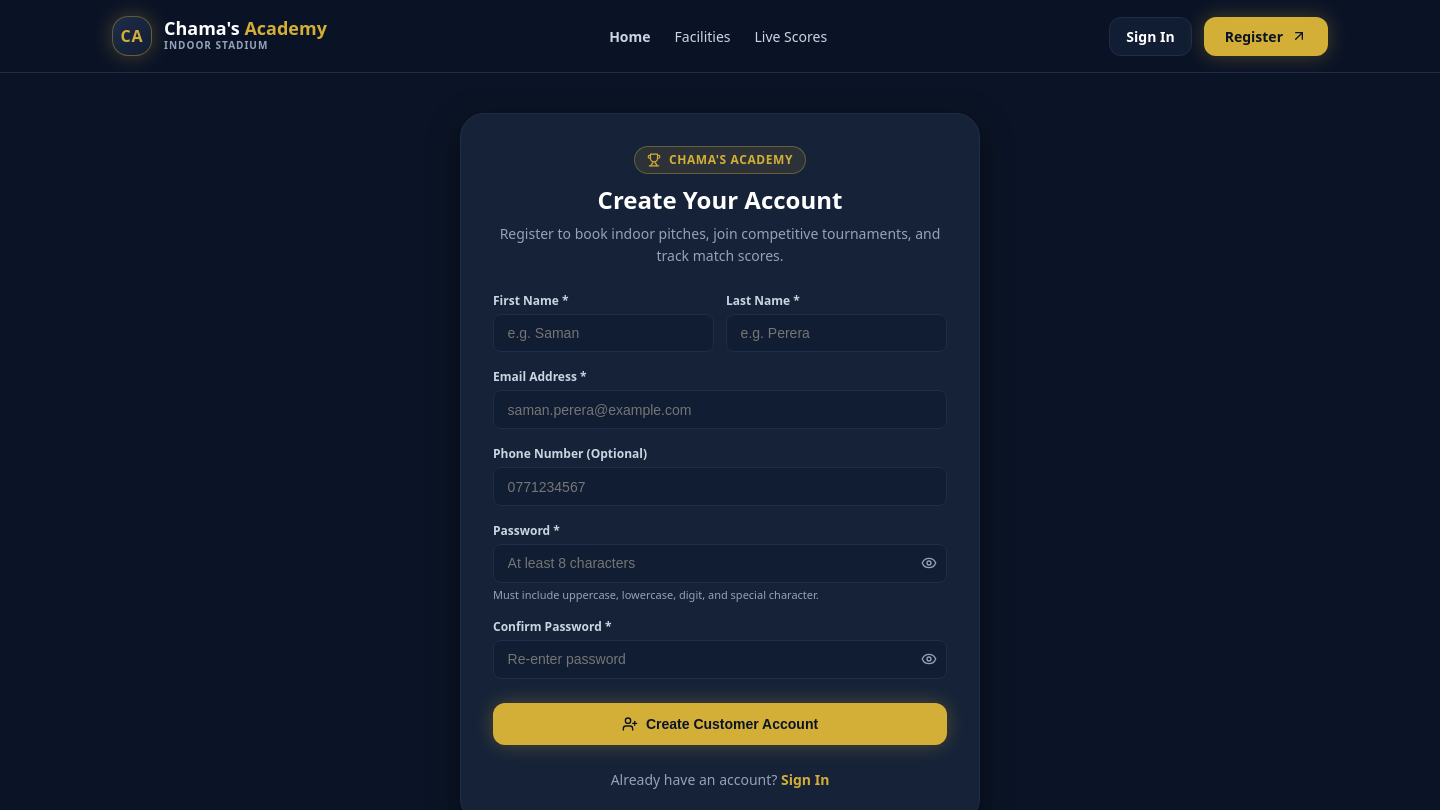
Test: Registration Page Component and Flow › validates password complexity and confirm-password mismatch
Type "Saman" into the field labelled "First Name *" at (604, 333), box [493,314,714,352]
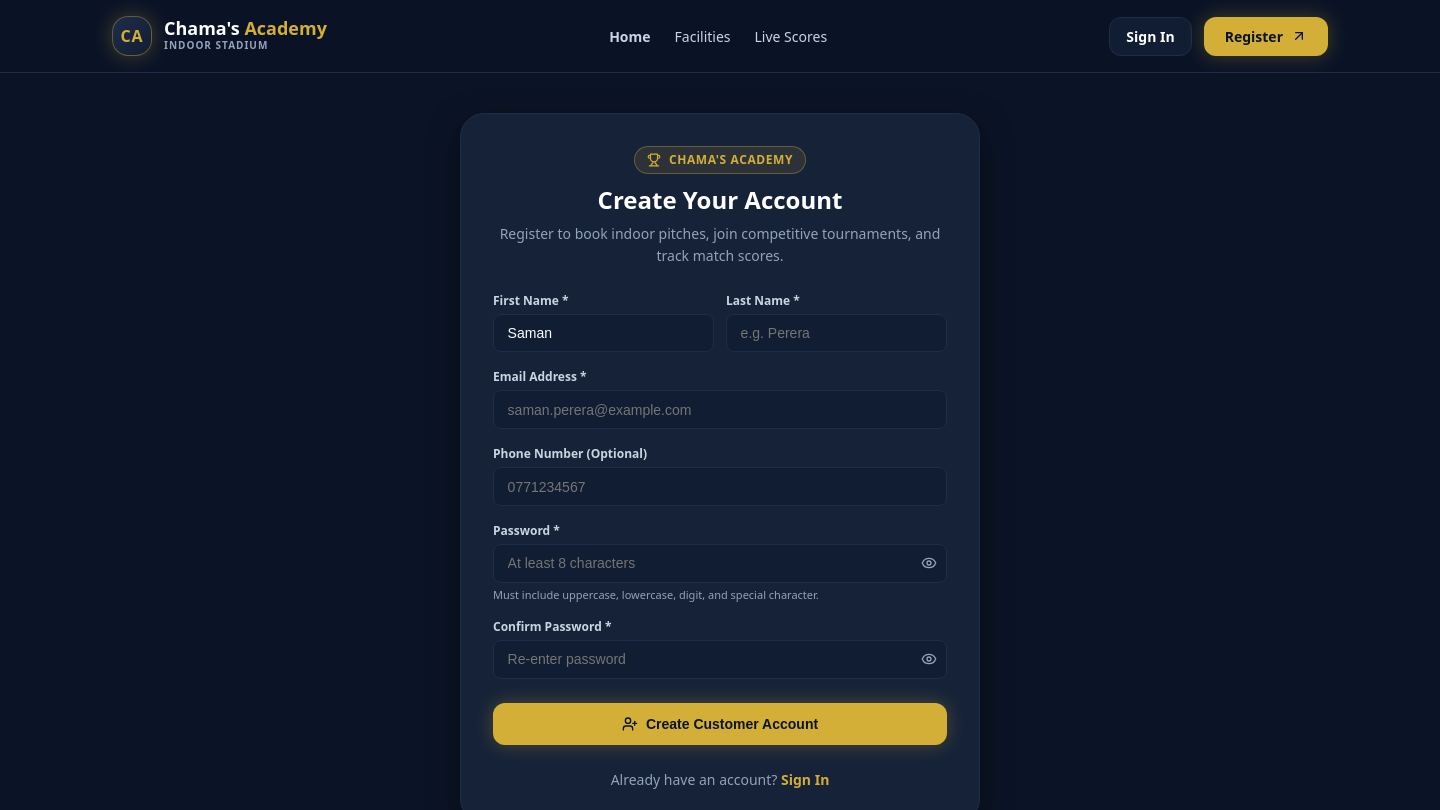
Type "Perera" into the field labelled "Last Name *" at (836, 333), box [726,314,947,352]
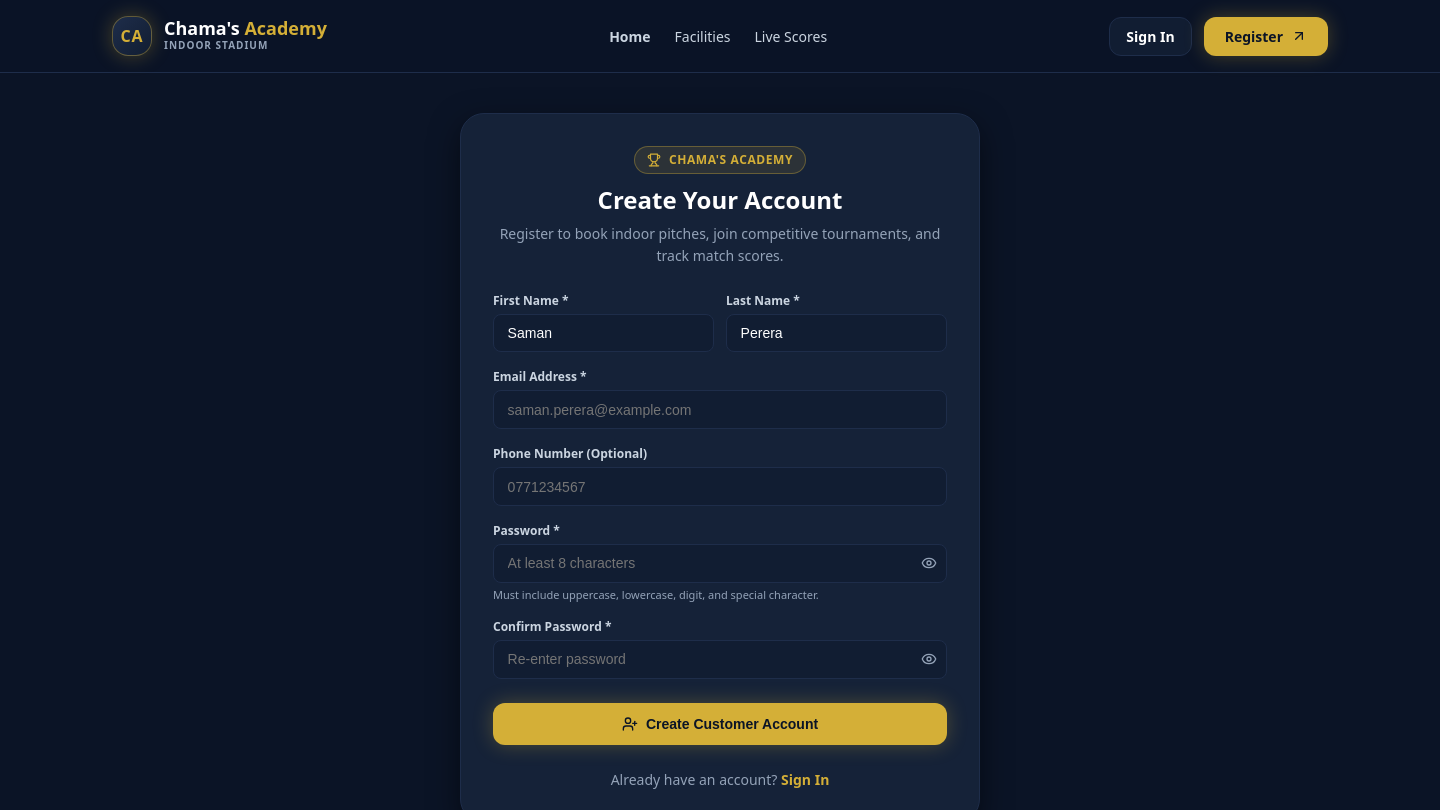
Type "saman@example.com" into the field labelled "Email Address *" at (720, 410), box [493,390,947,429]
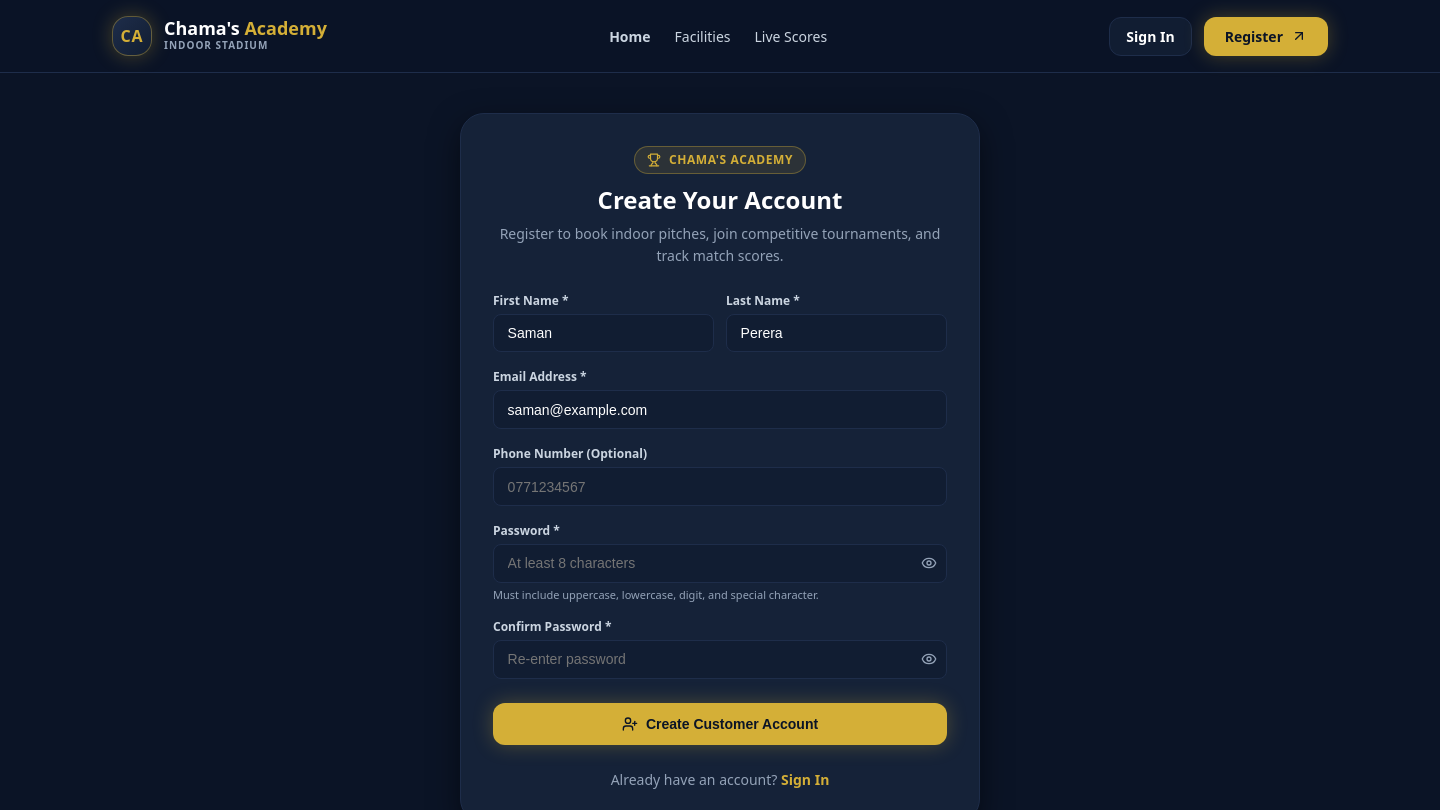
Type "weakpass" into the password field labelled "Password *" at (720, 563), box [493,544,947,583]
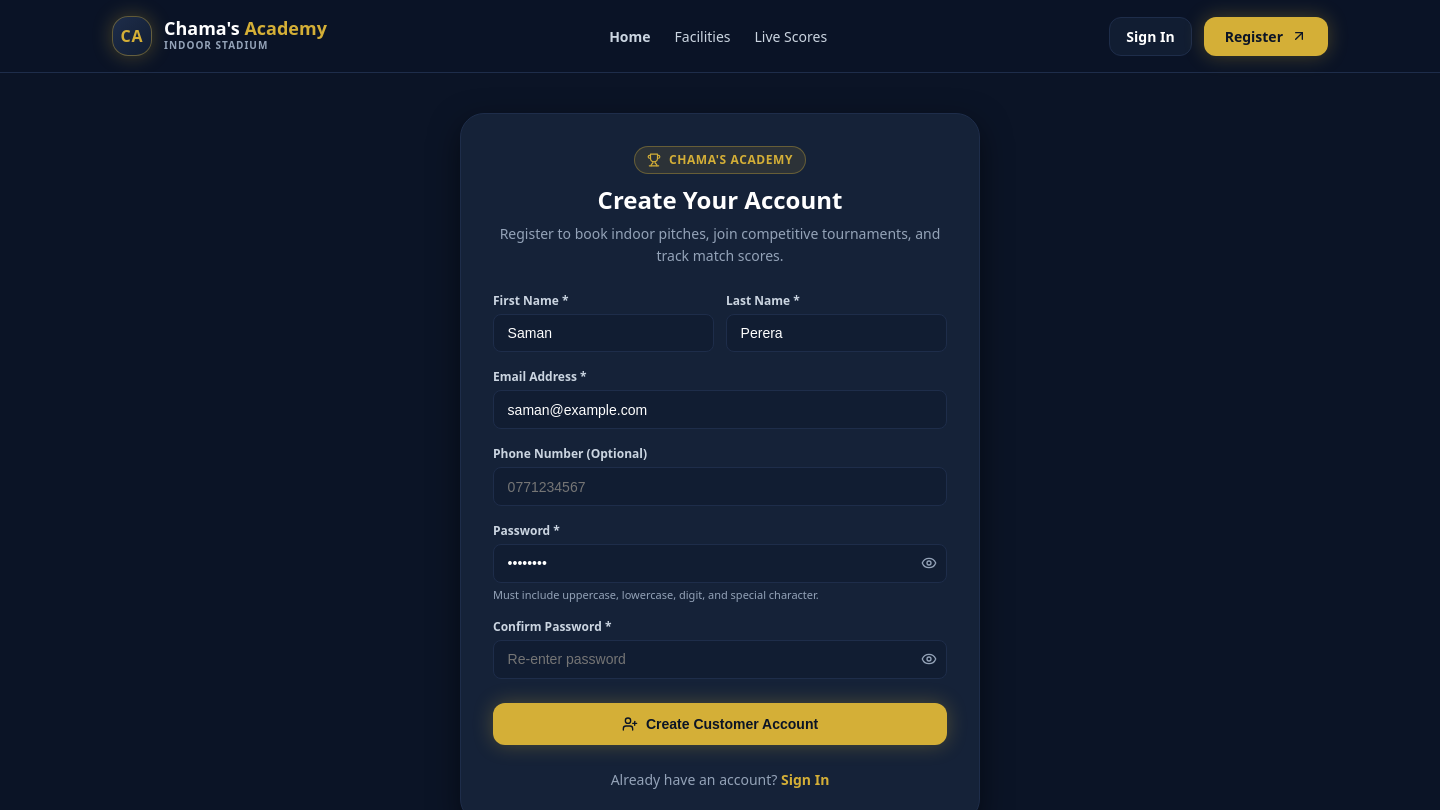
Type "differentpass" into the password field labelled "Confirm Password *" at (720, 660), box [493,640,947,679]
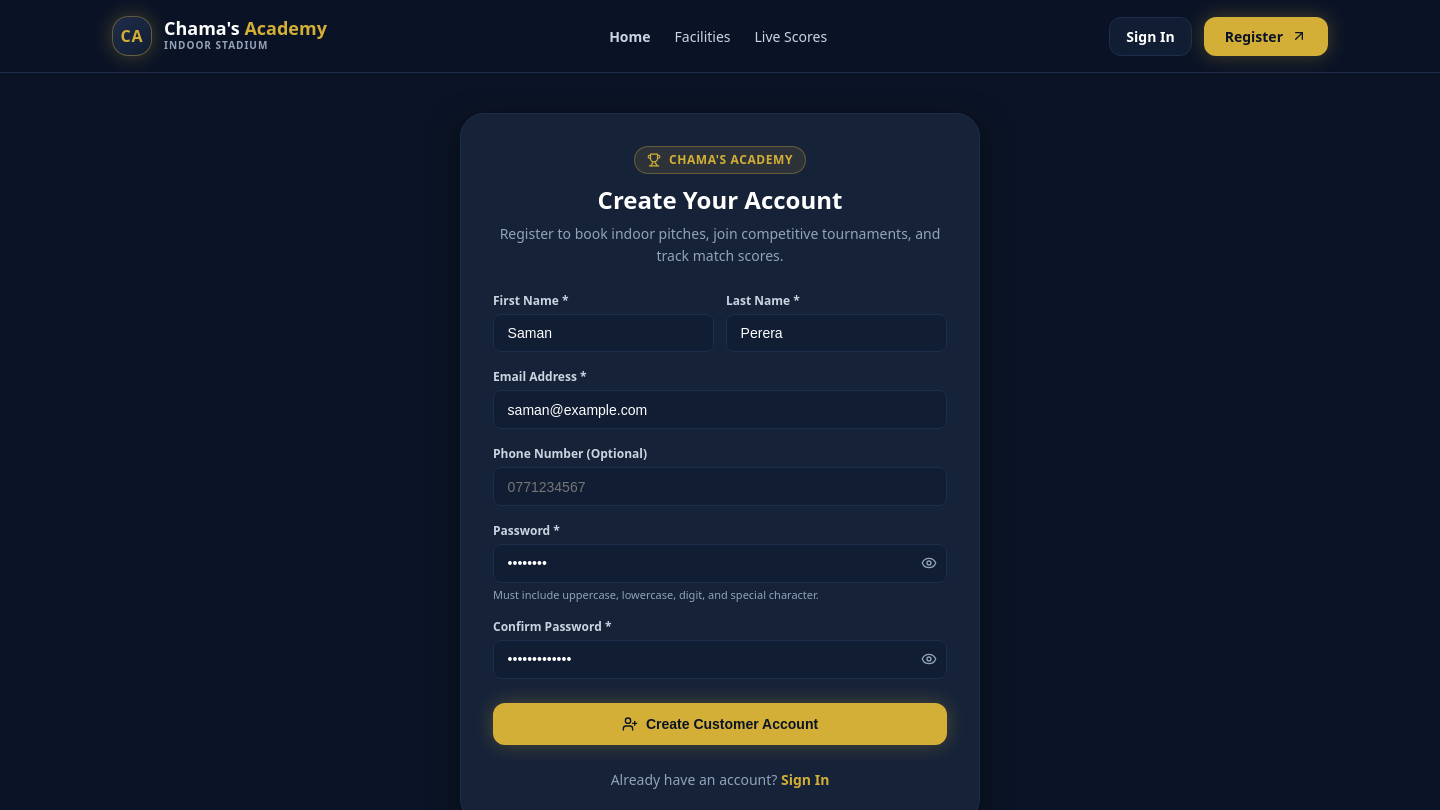
Click the button "Create Customer Account" at (720, 724), box [493,703,947,745]
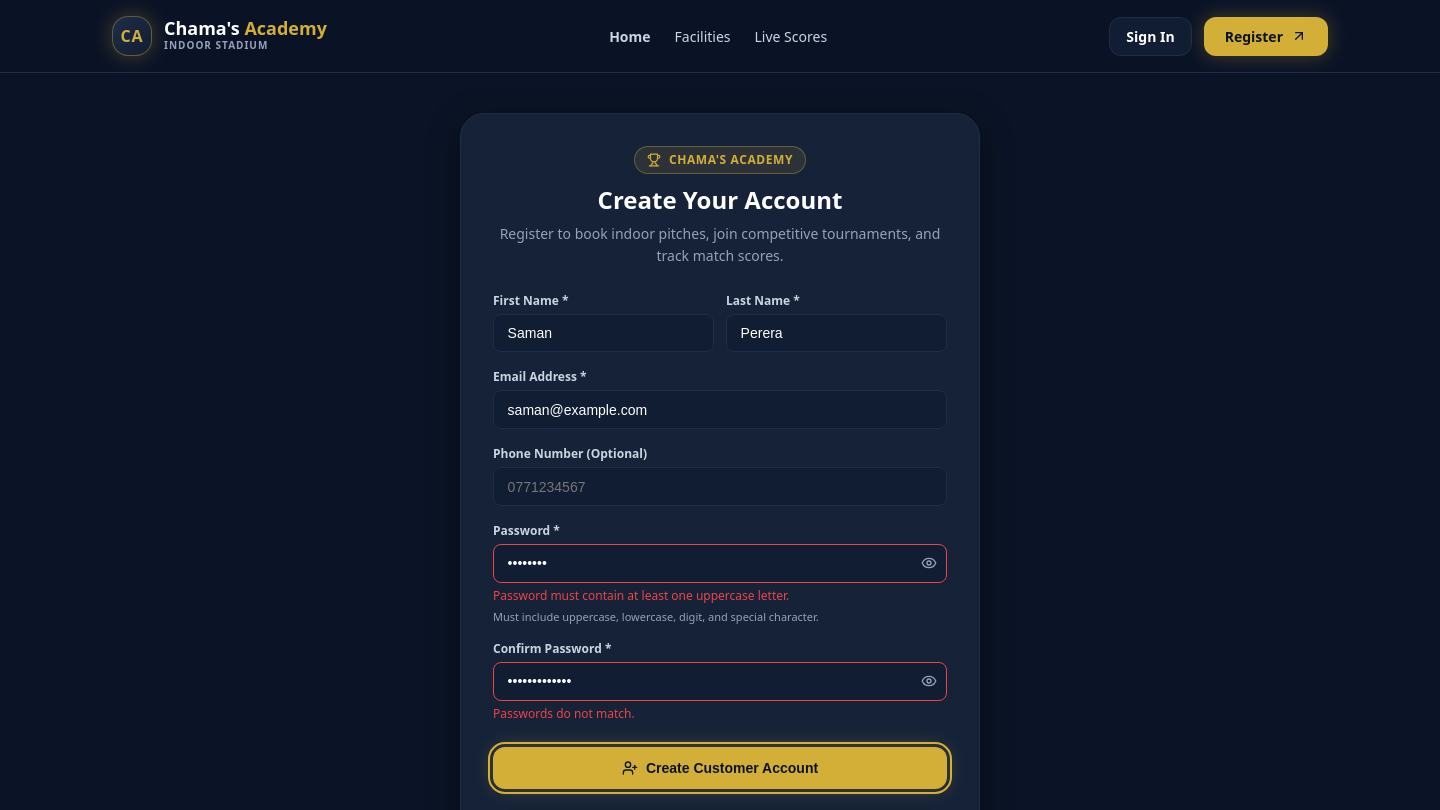
Expected: the text "Password must contain at least one uppercase letter." is shown, [493,587,789,604]
Expected: the text "Passwords do not match." is shown, [493,705,635,722]
